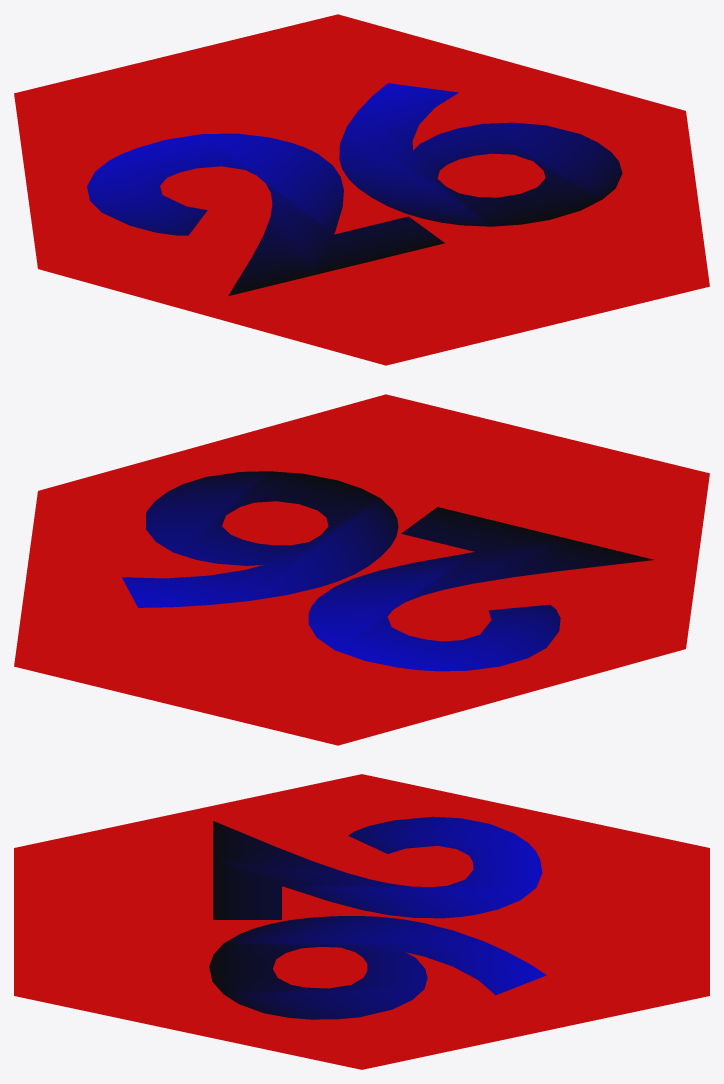
File: SM_Number_26.fbx
3 renders of one model, top to bottom at view 1: azimuth 30°, elevation 25°; view 2: azimuth 150°, elevation 25°; view 3: azimuth 270°, elevation 25°, orthographic. The views are drawn at different scales.
Visible parts, largest first — view 1: FBX_OUT; view 2: FBX_OUT; view 3: FBX_OUT.
Part boxes in pixels (x1,y1,x2,y2): FBX_OUT: (14,14,709,365); FBX_OUT: (14,394,709,745); FBX_OUT: (14,774,709,1069).
Bounding box in the file's own units: 50 × 0.2917 × 49.71.
